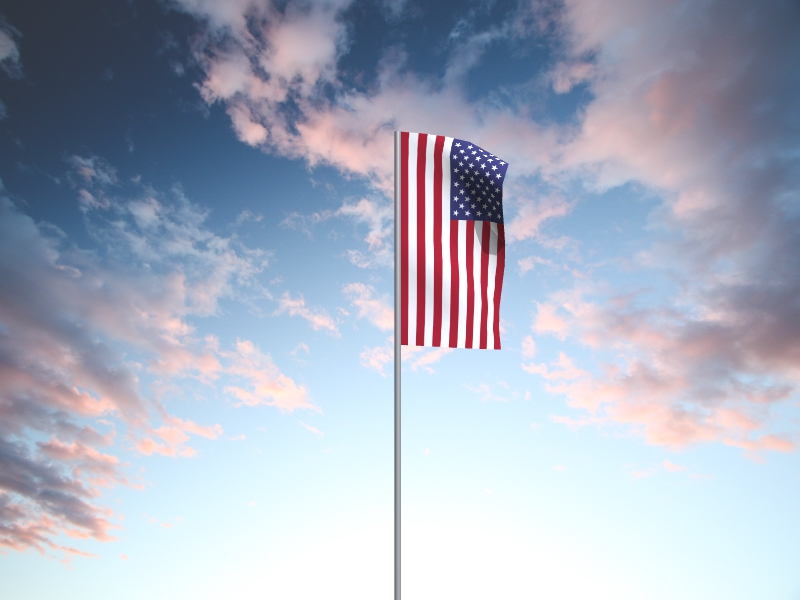us: (400, 132, 511, 350)
